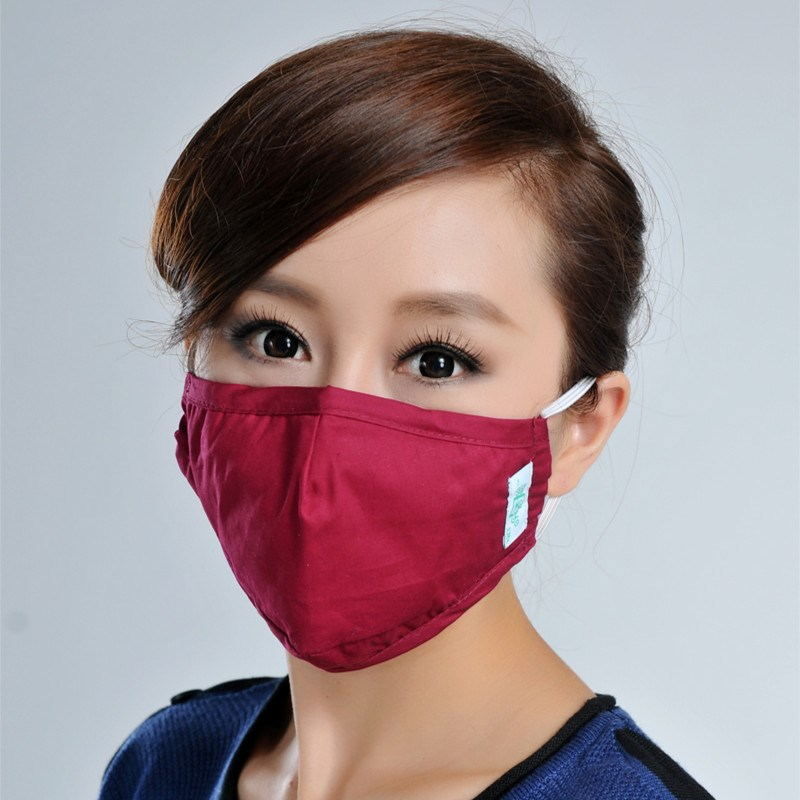face_mask: (178, 157, 559, 656)
